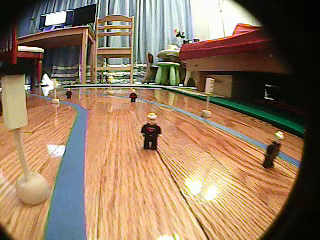Person: (139, 113, 164, 153), (263, 130, 285, 171), (129, 88, 139, 103), (66, 86, 73, 99)
